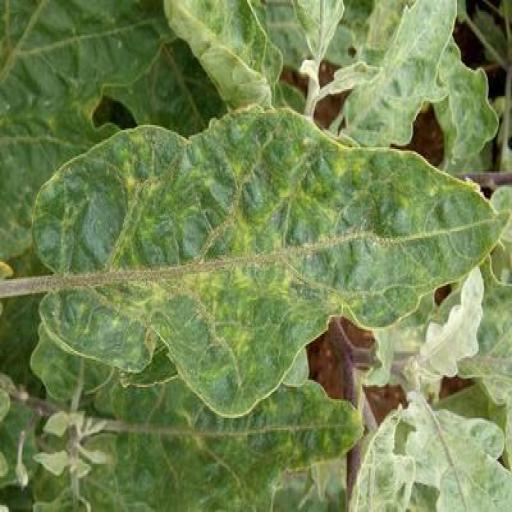Mosaic Virus: (32, 100, 512, 416), (90, 371, 367, 512)
